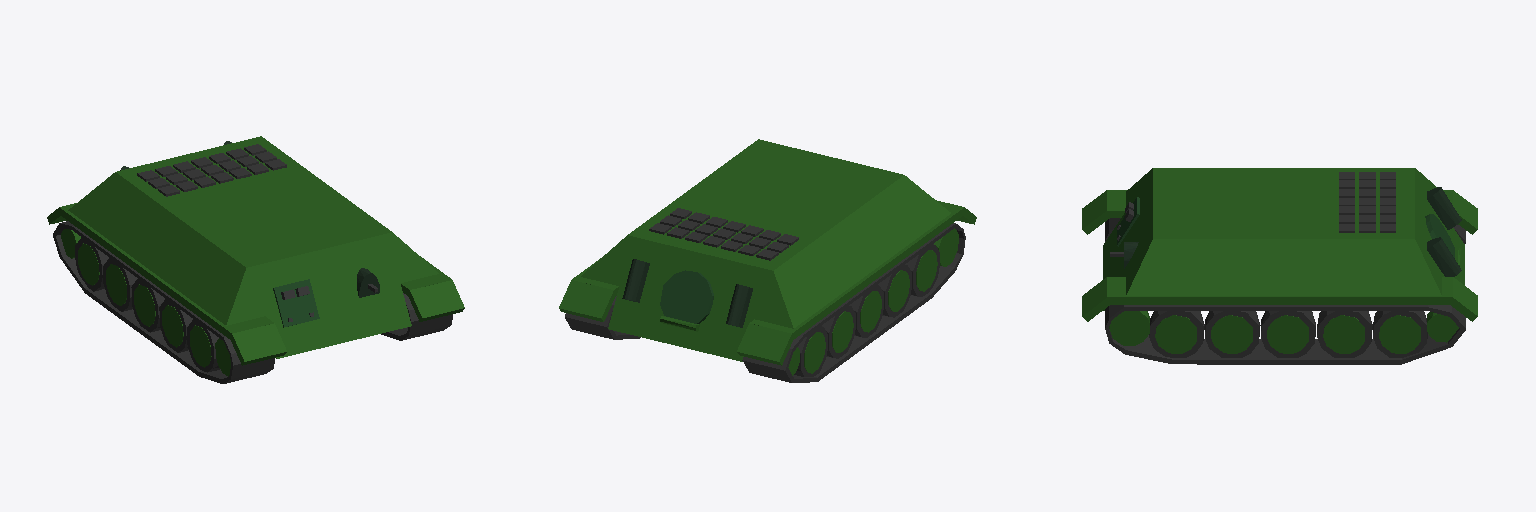
3 renders of one model, left to right at view 1: azimuth 30°, elevation 25°; view 2: azimuth 150°, elevation 25°; view 3: azimuth 270°, elevation 25°, orthographic.
Visible parts, largest first — view 1: 立方体_立方体.002, 立方体.124_立方体.001_立方体.124_立方体.001, 立方体.002_立方体.001, 立方体.006_立方体.001, 立方体.001, 立方体.030_立方体.001, 立方体.124_立方体.001_立方体.124_立方体.002, 履帯01.010_円柱.012_履帯01.010_円柱.001, 履帯01.010_円柱.020_履帯01.010_円柱.001, 履帯01.010_円柱.013_履帯01.010_円柱.001, 履帯01.010_円柱.018_履帯01.010_円柱.001, 履帯01.010_円柱.015_履帯01.010_円柱.001 (+2 smaller); view 2: 立方体_立方体.002, 立方体.124_立方体.001_立方体.124_立方体.001, 円柱.003_円柱.002, 立方体.002_立方体.001, 立方体.004_立方体.001, 立方体.003_立方体.002, 立方体.124_立方体.001_立方体.124_立方体.002, 円柱.004_円柱.002, 円柱.005_円柱.001, 履帯01.010_円柱.012_履帯01.010_円柱.001, 履帯01.010_円柱.020_履帯01.010_円柱.001, 履帯01.010_円柱.015_履帯01.010_円柱.001 (+3 smaller); view 3: 立方体_立方体.002, 立方体.124_立方体.001_立方体.124_立方体.002, 立方体.001_立方体.001, 履帯01.010_円柱.009_履帯01.010_円柱.001, 履帯01.010_円柱.001_履帯01.010_円柱.001, 履帯01.010_円柱.003_履帯01.010_円柱.001, 履帯01.010_円柱.006_履帯01.010_円柱.001, 履帯01.010_円柱.008_履帯01.010_円柱.001, 履帯01.015_円柱.004, 履帯01.010_円柱.004_履帯01.010_円柱.001, 履帯01.010_円柱.005_履帯01.010_円柱.001, 履帯01.010_円柱.007_履帯01.010_円柱.001 (+10 smaller).
Part boxes in pixels (x1,y1,x2,y2): 立方体_立方体.002: (68, 136, 438, 358); 立方体.124_立方体.001_立方体.124_立方体.001: (53, 221, 274, 383); 立方体.002_立方体.001: (59, 203, 273, 340); 立方体.006_立方体.001: (407, 280, 464, 321); 立方体.001: (231, 323, 286, 365); 立方体.030_立方体.001: (273, 279, 319, 327); 立方体.124_立方体.001_立方体.124_立方体.002: (381, 293, 452, 340); 履帯01.010_円柱.012_履帯01.010_円柱.001: (162, 305, 183, 347); 履帯01.010_円柱.020_履帯01.010_円柱.001: (134, 284, 155, 326); 履帯01.010_円柱.013_履帯01.010_円柱.001: (190, 325, 211, 367); 履帯01.010_円柱.018_履帯01.010_円柱.001: (78, 243, 99, 285); 履帯01.010_円柱.015_履帯01.010_円柱.001: (106, 264, 126, 305); 立方体_立方体.002: (581, 139, 950, 361); 立方体.124_立方体.001_立方体.124_立方体.001: (742, 223, 965, 382); 円柱.003_円柱.002: (660, 270, 713, 323); 立方体.002_立方体.001: (750, 200, 964, 338); 立方体.004_立方体.001: (737, 323, 794, 365); 立方体.003_立方体.002: (559, 280, 614, 321); 立方体.124_立方体.001_立方体.124_立方体.002: (565, 296, 640, 339); 円柱.004_円柱.002: (622, 259, 649, 302); 円柱.005_円柱.001: (726, 284, 752, 327); 履帯01.010_円柱.012_履帯01.010_円柱.001: (888, 270, 909, 311); 履帯01.010_円柱.020_履帯01.010_円柱.001: (860, 291, 881, 332); 履帯01.010_円柱.015_履帯01.010_円柱.001: (832, 311, 853, 352); 立方体_立方体.002: (1103, 168, 1464, 310); 立方体.124_立方体.001_立方体.124_立方体.002: (1105, 305, 1465, 364); 立方体.001_立方体.001: (1107, 277, 1452, 304); 履帯01.010_円柱.009_履帯01.010_円柱.001: (1211, 315, 1252, 353); 履帯01.010_円柱.001_履帯01.010_円柱.001: (1267, 315, 1308, 353); 履帯01.010_円柱.003_履帯01.010_円柱.001: (1379, 315, 1420, 353); 履帯01.010_円柱.006_履帯01.010_円柱.001: (1323, 315, 1364, 353); 履帯01.010_円柱.008_履帯01.010_円柱.001: (1155, 315, 1196, 353); 履帯01.015_円柱.004: (1109, 311, 1149, 345); 履帯01.010_円柱.004_履帯01.010_円柱.001: (1317, 311, 1372, 357); 履帯01.010_円柱.005_履帯01.010_円柱.001: (1261, 311, 1315, 357); 履帯01.010_円柱.007_履帯01.010_円柱.001: (1205, 311, 1260, 357).
Bounding box in the file's own units: 6.2 × 2.94 × 9.63.
Materials: 8 (4 with a texture image).